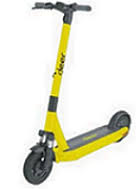kick_board: (23, 2, 131, 182)
kick_handler: (32, 2, 92, 21)
kick_neck: (45, 25, 69, 116)
kick_wheel: (23, 144, 53, 186), (109, 110, 130, 143)
